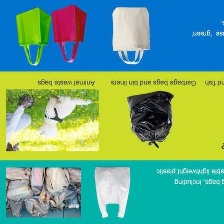plastic_bag: (120, 90, 177, 151), (92, 163, 132, 219)
